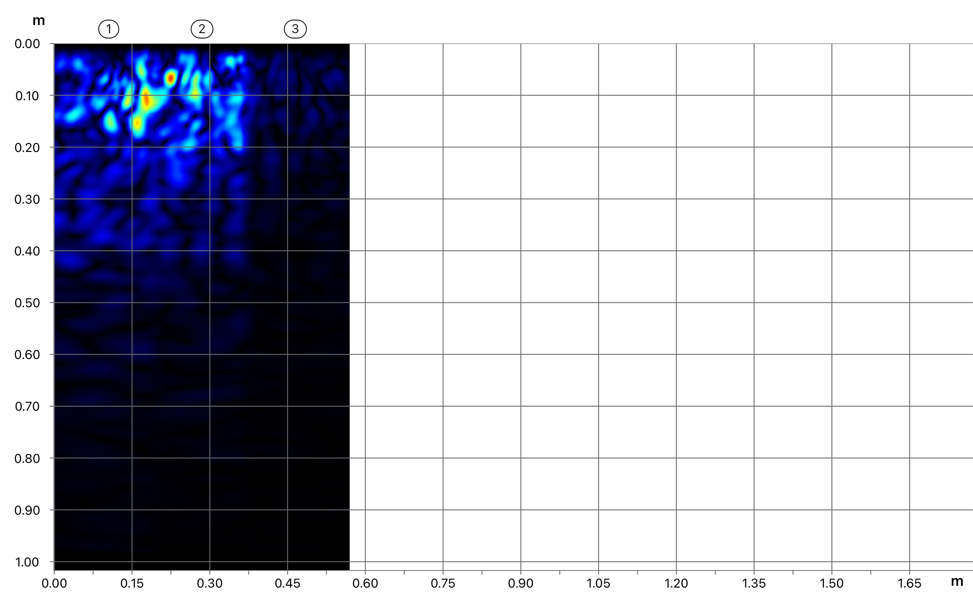crop: (0, 0, 350, 326)
